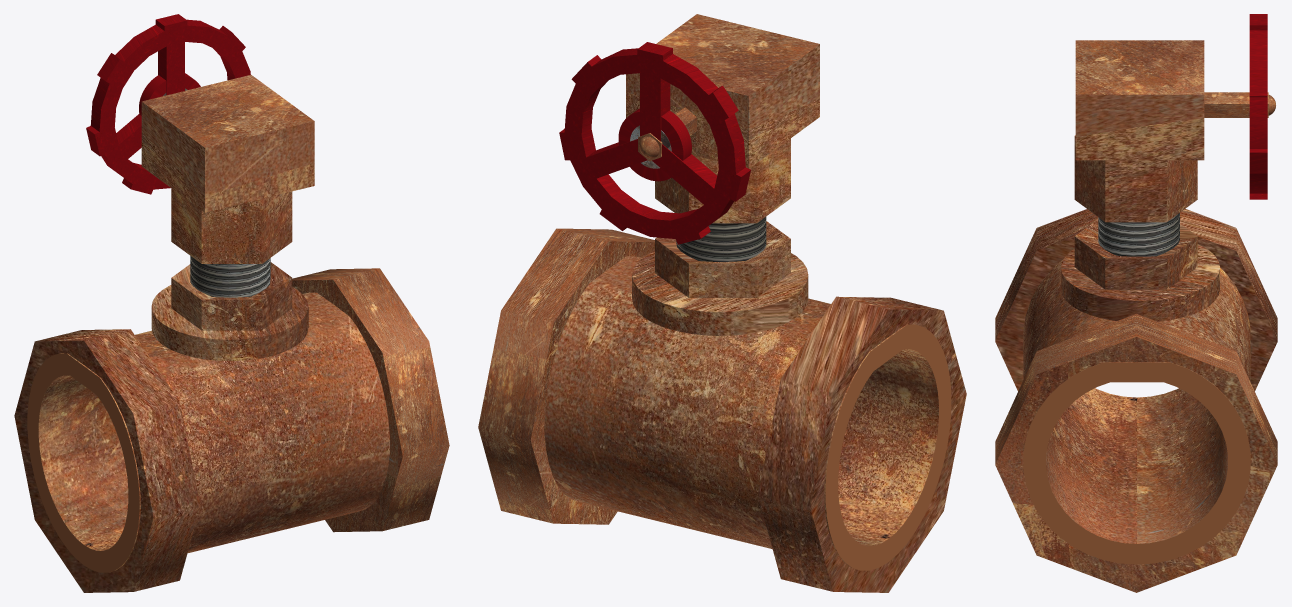
The model's file is 錆びたバルブ.fbx.
3 renders of one model, left to right at view 1: azimuth 30°, elevation 25°; view 2: azimuth 150°, elevation 25°; view 3: azimuth 270°, elevation 25°, orthographic. The views are drawn at different scales.
Visible parts, largest first — view 1: obj8, obj11, obj7, obj10, obj1, obj9, obj13, obj12, obj6, obj3; view 2: obj8, obj11, obj10, obj1, obj7, obj13, obj12, obj9, obj6, obj3; view 3: obj8, obj10, obj7, obj11, obj9, obj13, obj12, obj1, obj6, obj2.
Part boxes in pixels (x1,y1,x2,y2): obj8: (27, 292, 389, 572); obj11: (14, 329, 200, 592); obj7: (141, 75, 314, 212); obj10: (292, 268, 449, 532); obj1: (86, 14, 250, 194); obj9: (171, 188, 292, 263); obj13: (151, 285, 308, 360); obj12: (171, 262, 292, 330); obj6: (190, 256, 270, 297); obj3: (139, 73, 200, 115); obj8: (544, 256, 951, 570); obj11: (758, 296, 966, 592); obj10: (478, 228, 654, 524); obj1: (559, 42, 750, 244); obj7: (626, 14, 819, 168); obj13: (632, 250, 808, 335); obj12: (655, 221, 790, 297); obj9: (655, 138, 790, 223); obj6: (676, 217, 766, 261); obj3: (618, 108, 691, 181); obj8: (1023, 259, 1250, 564); obj10: (995, 314, 1277, 592); obj7: (1075, 40, 1204, 160); obj11: (995, 209, 1277, 391); obj9: (1074, 135, 1197, 222); obj13: (1061, 244, 1219, 321); obj12: (1074, 219, 1197, 289); obj1: (1249, 14, 1267, 199); obj6: (1098, 213, 1179, 256); obj2: (1204, 92, 1268, 117).
Size of the model in its own units: 387 by 615 by 315.
4 materials, 4 textured.
